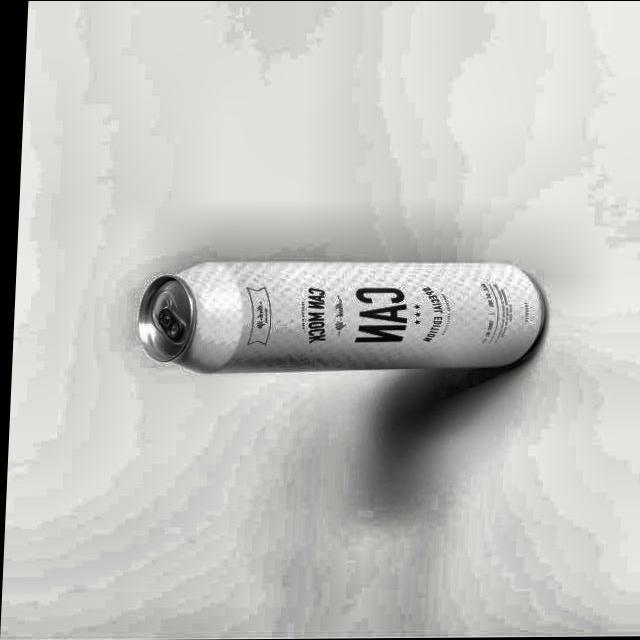litter: (127, 251, 554, 388)
